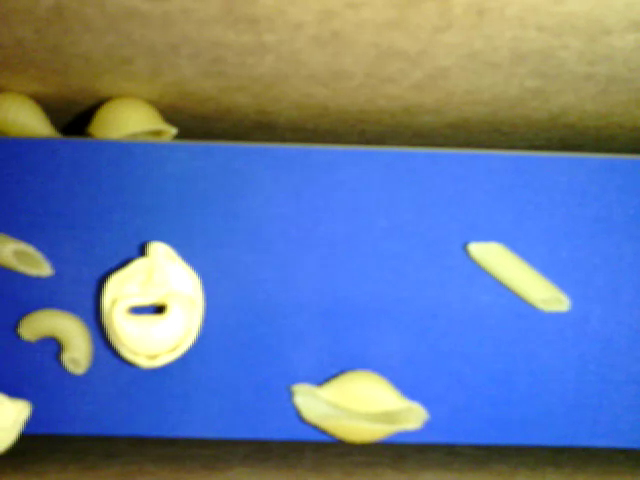elbow: (15, 305, 95, 376)
penne: (463, 238, 566, 314), (1, 228, 55, 279)
shell: (287, 364, 431, 441), (87, 93, 181, 143), (1, 89, 71, 139)
tortellini: (101, 237, 202, 363), (1, 384, 36, 458)
